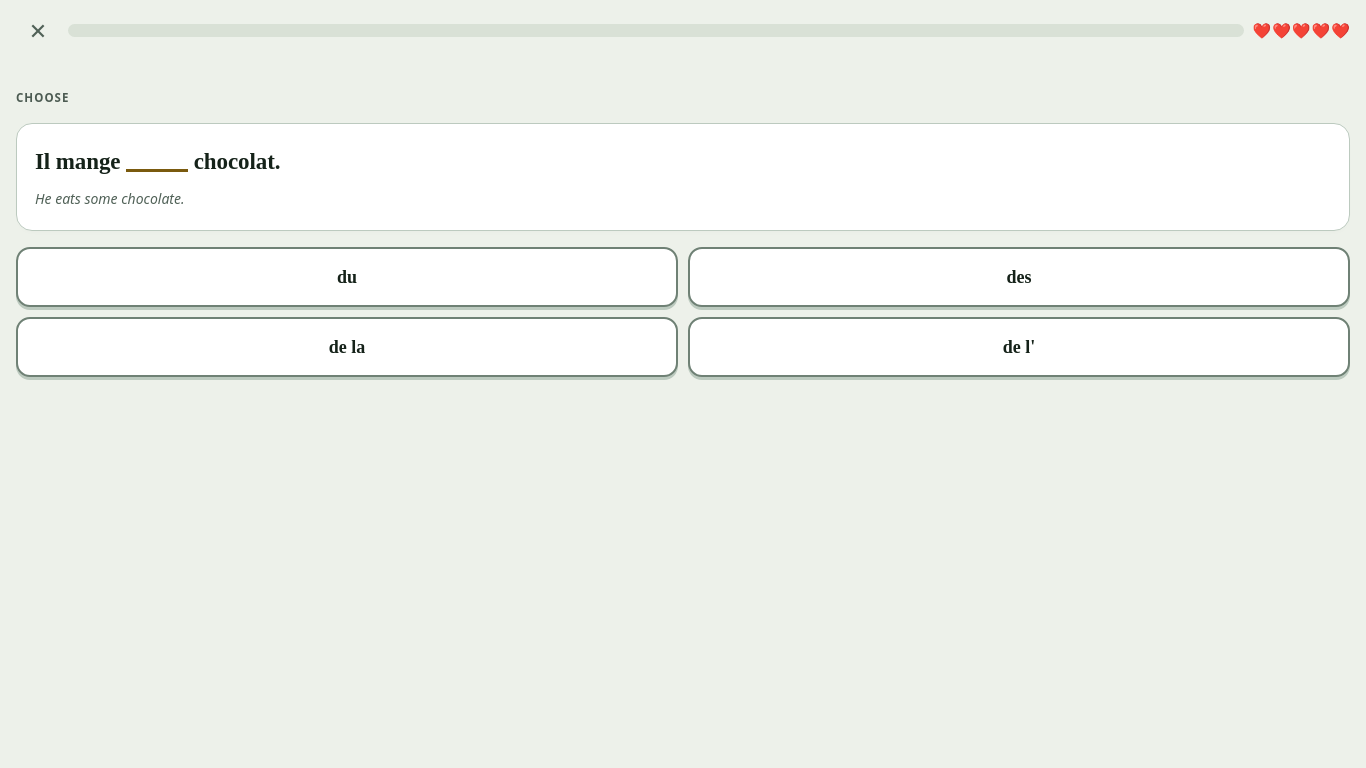
Test: RoundView: every question kind can be answered › choice: a wrong answer costs a heart, opens the why-card, and Got it moves on
Click the button "de la" at coordinates (347, 347), box [16,317,678,377]
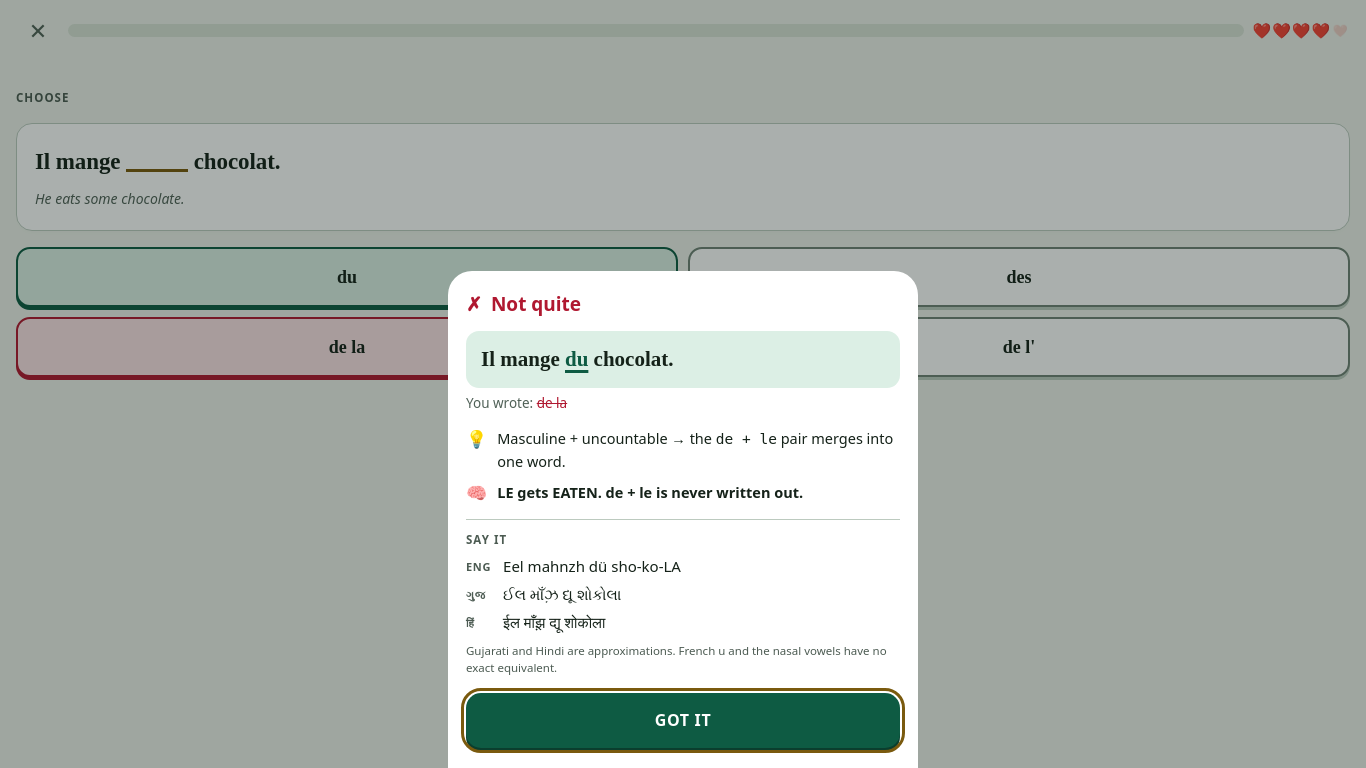
Check: the picture named "4 of 5 hearts left" is shown, box [1252,22,1350,38]
Click the button "Got it" at coordinates (683, 720), box [466,693,900,748]
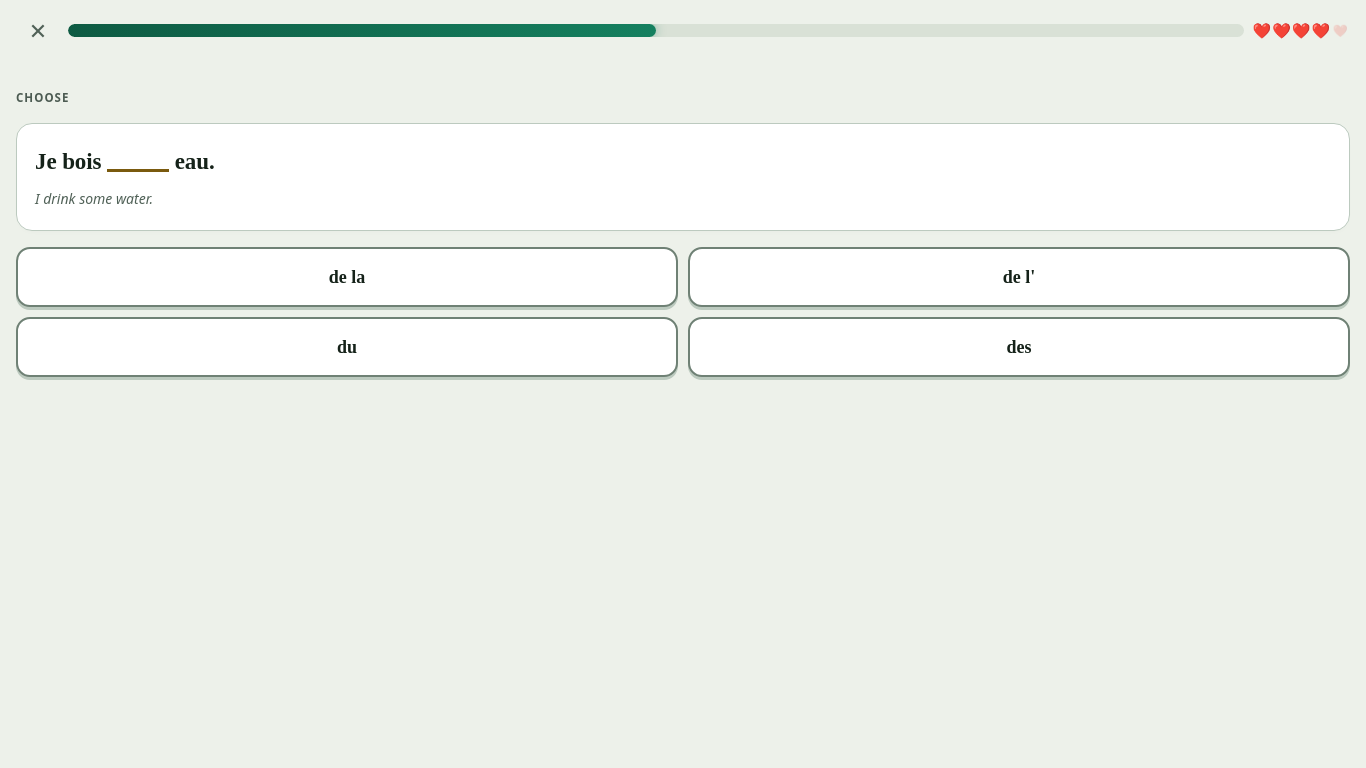
Check: the dialog is gone
